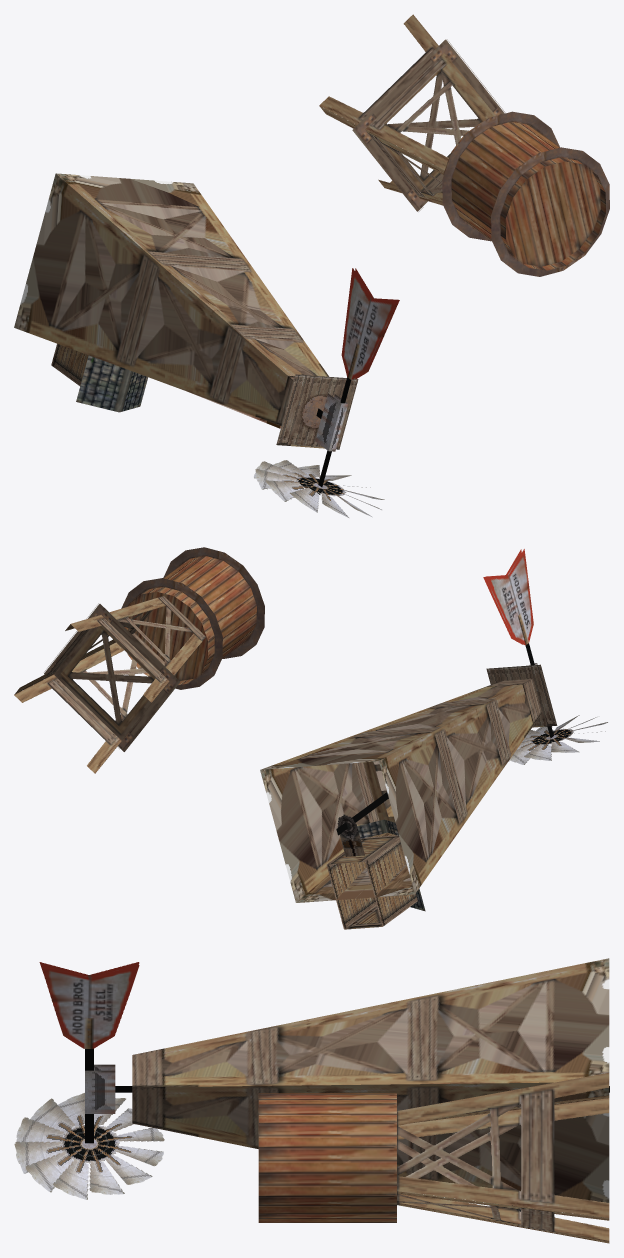
File: wind.obj
3 renders of one model, top to bottom at view 1: azimuth 30°, elevation 25°; view 2: azimuth 150°, elevation 25°; view 3: azimuth 270°, elevation 25°, orthographic. The views are drawn at different scales.
Bounding box in the file's own units: 198 × 118 × 197.
Materials: 22 (20 with a texture image).
